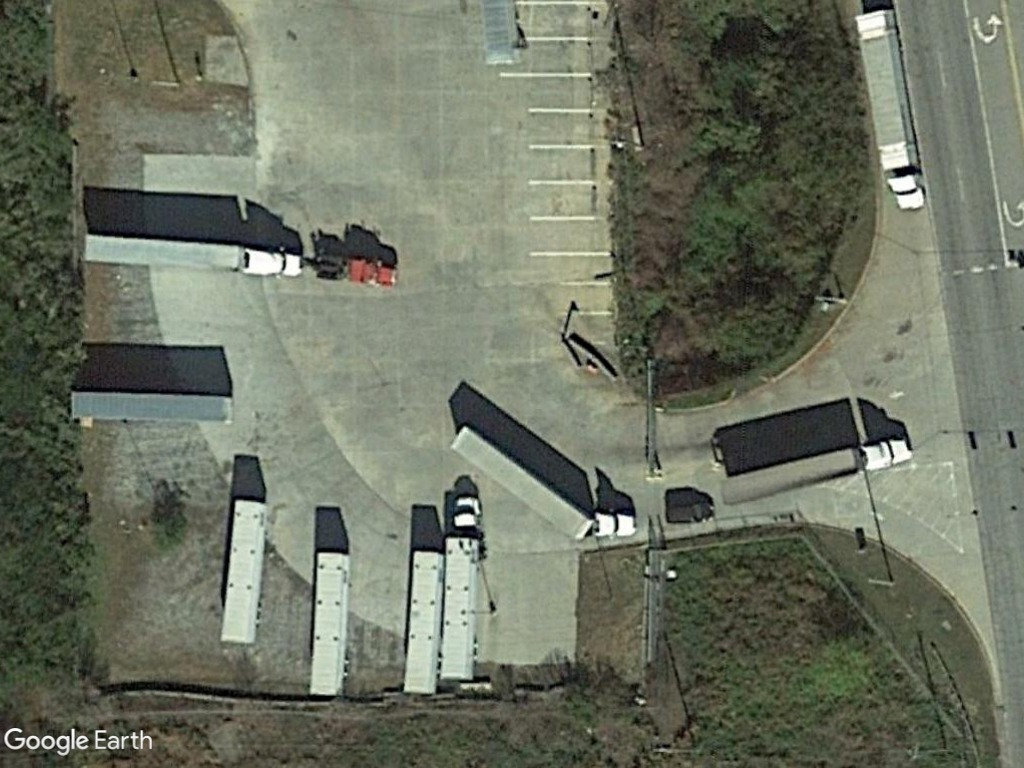longvehicle: (450, 425, 594, 543), (709, 432, 916, 512), (852, 7, 928, 219), (80, 231, 279, 282), (212, 491, 271, 648), (442, 486, 484, 687), (304, 541, 351, 699), (403, 546, 442, 698)
